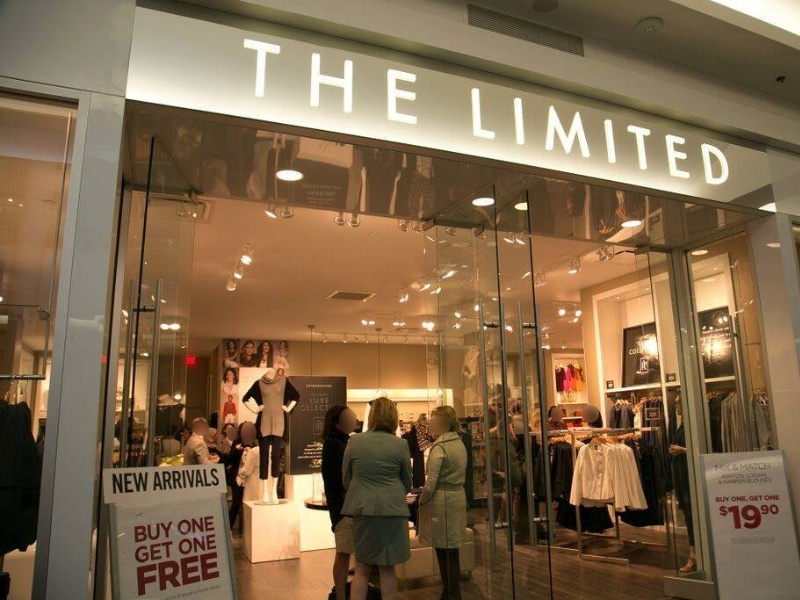text: (481, 86, 496, 190), (497, 86, 512, 190), (513, 86, 528, 190), (529, 86, 544, 190), (545, 86, 560, 190), (561, 86, 576, 190), (577, 86, 592, 190), (593, 86, 608, 190), (609, 86, 624, 190), (625, 86, 640, 190), (641, 86, 656, 190), (657, 86, 672, 190), (673, 86, 688, 190), (689, 86, 704, 190), (705, 86, 720, 190), (257, 35, 272, 128), (273, 35, 288, 128), (289, 35, 304, 128), (305, 35, 320, 128), (321, 35, 336, 128), (337, 35, 352, 128), (353, 35, 368, 128), (369, 35, 384, 128), (385, 35, 400, 128), (401, 35, 416, 128), (243, 35, 256, 128), (721, 86, 732, 190), (470, 86, 480, 190), (145, 550, 160, 598), (161, 550, 176, 598), (177, 550, 192, 598), (193, 550, 208, 598), (209, 550, 221, 598), (145, 539, 160, 566), (721, 504, 736, 530), (737, 504, 752, 530), (753, 504, 768, 530), (136, 550, 144, 598), (161, 539, 175, 566), (113, 471, 128, 496), (129, 471, 144, 496), (161, 468, 176, 492), (177, 468, 192, 492), (193, 468, 208, 492), (145, 520, 160, 544), (177, 514, 192, 538), (193, 514, 208, 538), (177, 534, 192, 558), (193, 534, 208, 558), (161, 520, 174, 544), (133, 539, 144, 566), (769, 504, 780, 530), (417, 35, 420, 128), (209, 468, 220, 492), (134, 520, 144, 544), (177, 583, 192, 599), (193, 583, 208, 599), (209, 534, 218, 558), (209, 583, 222, 599), (152, 468, 160, 492), (209, 514, 217, 538), (753, 462, 768, 471), (305, 405, 320, 413), (305, 448, 320, 456), (721, 471, 736, 479), (737, 471, 752, 479), (721, 477, 736, 485), (737, 477, 752, 485), (753, 477, 768, 485), (739, 462, 752, 471), (753, 471, 767, 479), (305, 383, 320, 390), (307, 441, 320, 449), (145, 471, 149, 496), (170, 583, 176, 599), (321, 383, 334, 390), (305, 455, 320, 461), (721, 463, 731, 472), (309, 397, 320, 405), (737, 496, 749, 503), (769, 494, 781, 501), (321, 397, 331, 405), (321, 405, 331, 413), (717, 504, 720, 530), (753, 495, 764, 502), (309, 391, 320, 398), (321, 391, 331, 398), (721, 496, 730, 503), (714, 463, 720, 472), (296, 455, 304, 461), (714, 496, 720, 503), (299, 405, 304, 413), (731, 463, 736, 471), (731, 496, 736, 503), (321, 441, 325, 449), (764, 494, 768, 501), (769, 462, 772, 471), (111, 471, 112, 496), (717, 477, 720, 485), (769, 477, 772, 485), (737, 463, 740, 471), (750, 495, 752, 502), (321, 455, 323, 461), (303, 448, 304, 456), (321, 448, 322, 456), (303, 383, 304, 390)
